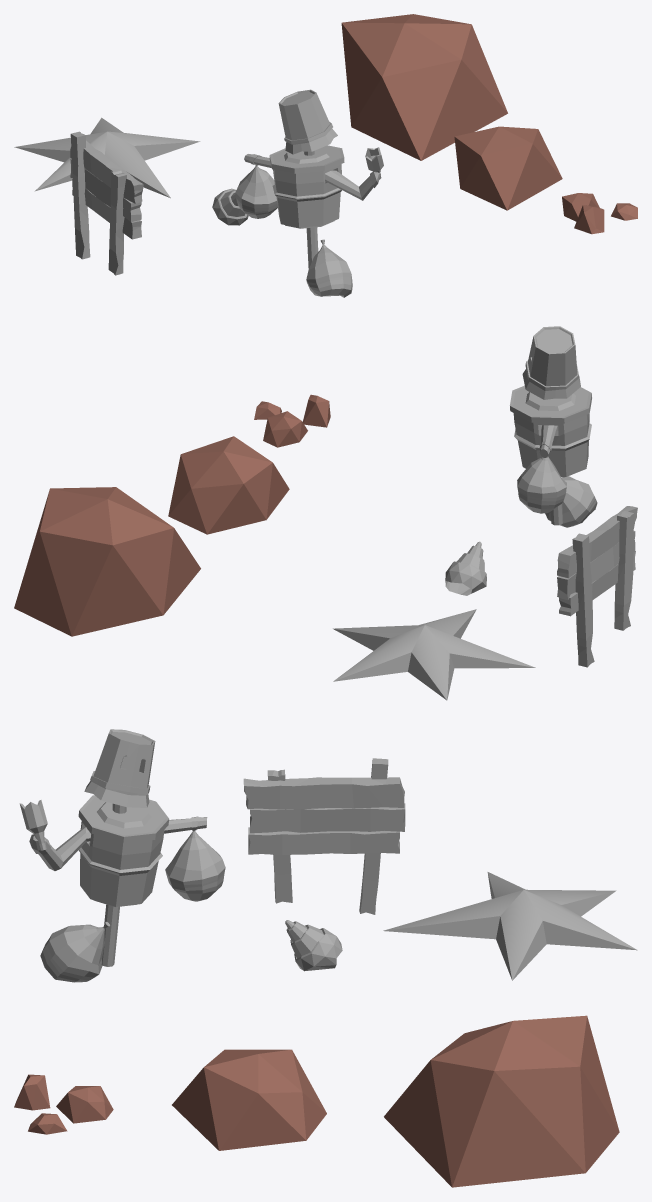
File: things.fbx
3 views of the same model, one above another, from view 1: azimuth 30°, elevation 25°; view 2: azimuth 150°, elevation 25°; view 3: azimuth 270°, elevation 25° (orthographic). The views are drawn at different scales.
Visible parts, largest first — view 1: Icosphere.006, polySurface1, Icosphere.005, Cube.002, pCube6, Icosphere.004, Shell; view 2: Icosphere.006, polySurface1, Icosphere.005, pCube6, Cube.002, Icosphere.004, Shell; view 3: Icosphere.006, polySurface1, Cube.002, Icosphere.005, pCube6, Icosphere.004, Shell.
Boxes of the visible parts, left/top/right/bottom form: Icosphere.006: left=341, top=14, right=507, bottom=160; polySurface1: left=235, top=89, right=383, bottom=297; Icosphere.005: left=454, top=126, right=562, bottom=210; Cube.002: left=70, top=131, right=143, bottom=275; pCube6: left=14, top=117, right=200, bottom=198; Icosphere.004: left=562, top=193, right=637, bottom=234; Shell: left=212, top=188, right=248, bottom=225; Icosphere.006: left=14, top=487, right=200, bottom=636; polySurface1: left=510, top=326, right=597, bottom=527; Icosphere.005: left=168, top=436, right=289, bottom=534; pCube6: left=333, top=609, right=535, bottom=700; Cube.002: left=557, top=506, right=637, bottom=667; Icosphere.004: left=254, top=394, right=330, bottom=447; Shell: left=445, top=541, right=486, bottom=595; Icosphere.006: left=384, top=1015, right=619, bottom=1187; polySurface1: left=19, top=729, right=225, bottom=982; Cube.002: left=243, top=758, right=405, bottom=914; Icosphere.005: left=172, top=1049, right=326, bottom=1150; pCube6: left=383, top=872, right=637, bottom=980; Icosphere.004: left=14, top=1074, right=113, bottom=1134; Shell: left=285, top=920, right=342, bottom=971.
Bounding box in the file's own units: 839 × 350 × 770.
